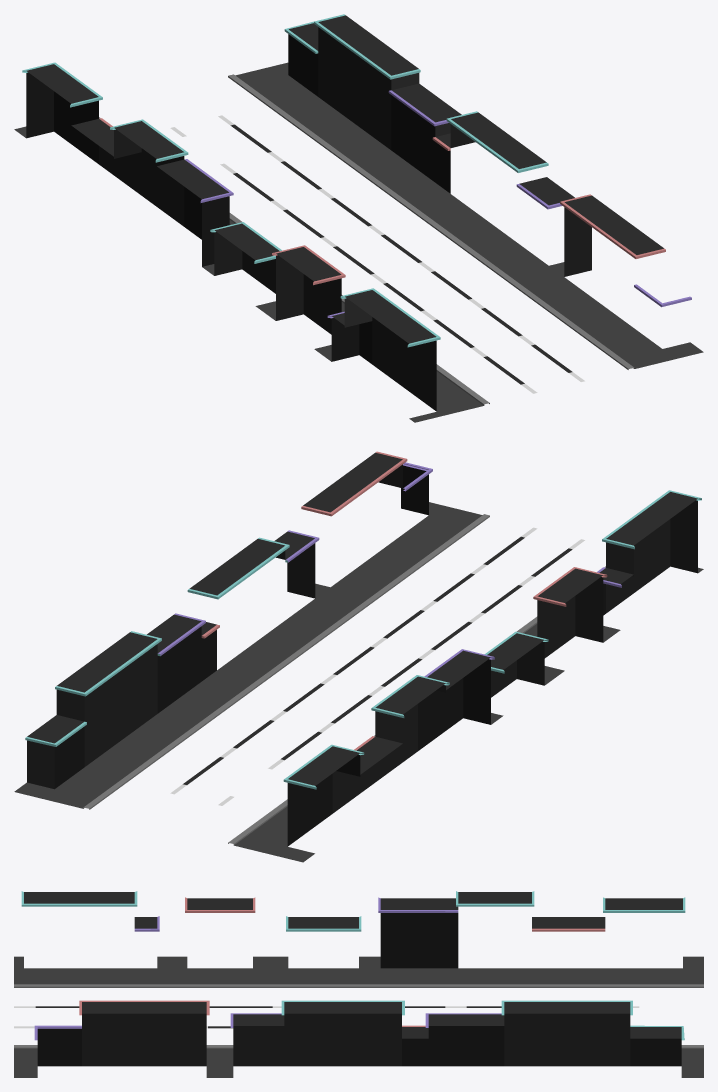
File: Road+Night.glb
3 renders of one model, top to bottom at view 1: azimuth 30°, elevation 25°; view 2: azimuth 150°, elevation 25°; view 3: azimuth 270°, elevation 25°, orthographic. The views are drawn at different scales.
Parts seen in each view (by area): view 1: road; view 2: road; view 3: road.
Boxes of the visible parts, box(x1,y1,x2,y2) form: road: box(14, 14, 703, 422); road: box(14, 451, 703, 862); road: box(14, 891, 703, 1077).
Bounding box in the file's own units: 4203 × 1030 × 10000.
